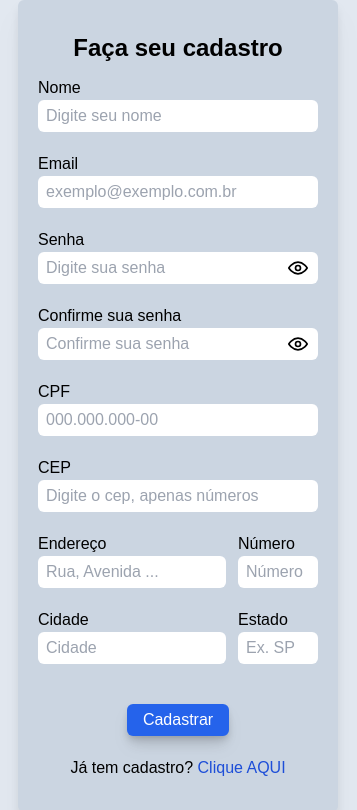
Signup › deve preencher automaticamente endereço ao digitar CEP válido
Type "01001000" into the field with placeholder "Digite o cep, apenas números". click: (178, 496)
box: [38, 480, 318, 512]
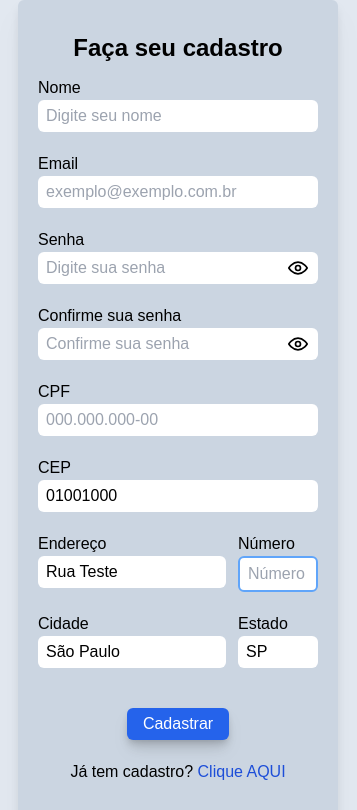
Now the field with placeholder "Rua, Avenida ..." below "Endereço" holds "Rua Teste", box [38, 556, 226, 588]
Now the field with placeholder "Cidade" below "Cidade" holds "São Paulo", box [38, 636, 226, 668]
Now the field with placeholder "Ex. SP" below "Estado" holds "SP", box [238, 636, 318, 668]
